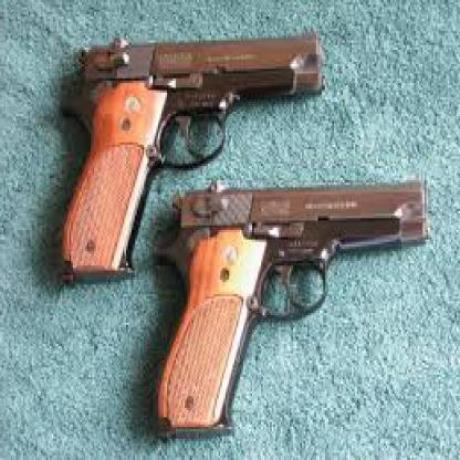weapon: (152, 162, 428, 444), (48, 26, 326, 288)
